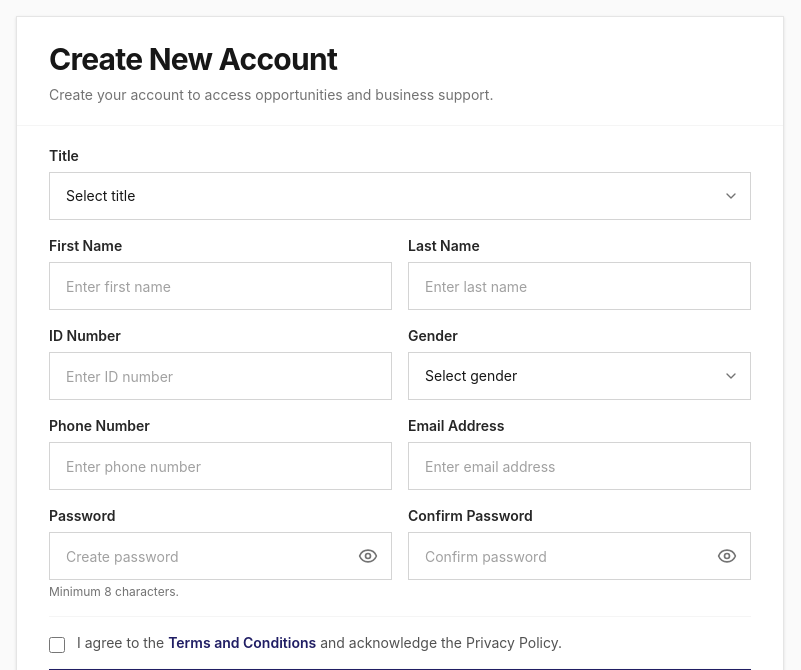
Scenario: CreateAccount Component › should display an error when passwords do not match
The image size is (801, 670).
Type "Password123" into the password field labelled "Password".
click(220, 556); type("Password123")  # box left=49, top=532, right=392, bottom=580
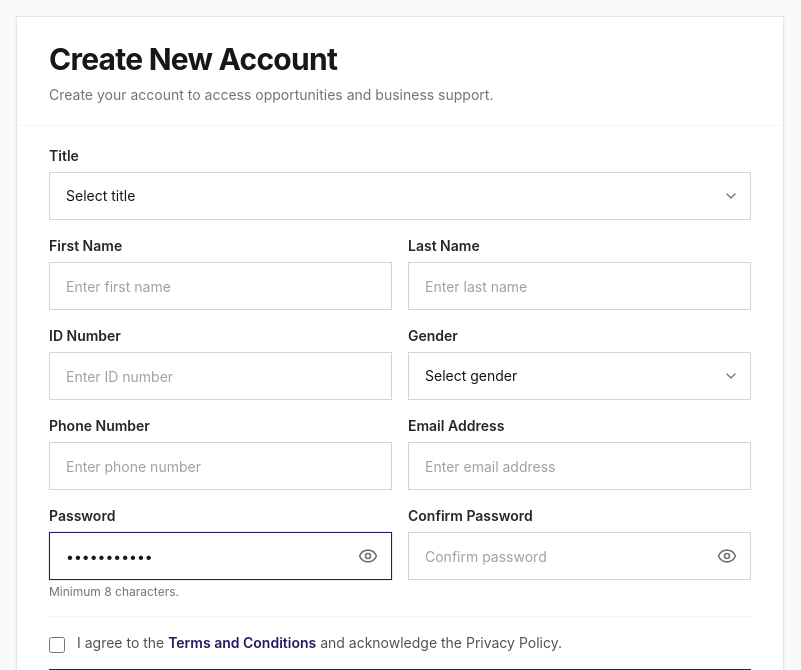
Type "Different123" into the password field labelled "Confirm Password".
click(580, 556); type("Different123")  # box left=408, top=532, right=751, bottom=580
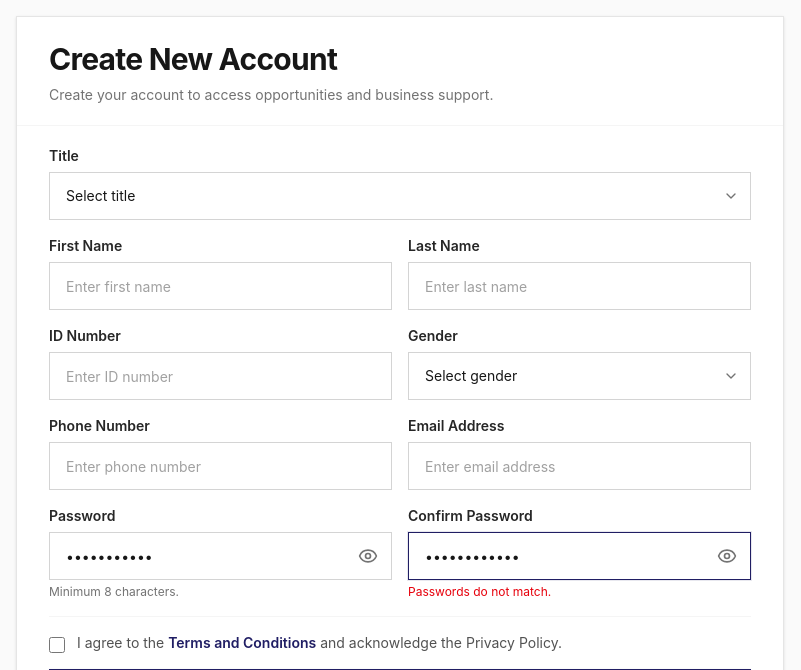
Expected: the text "Passwords do not match." is shown, left=408, top=584, right=551, bottom=599
